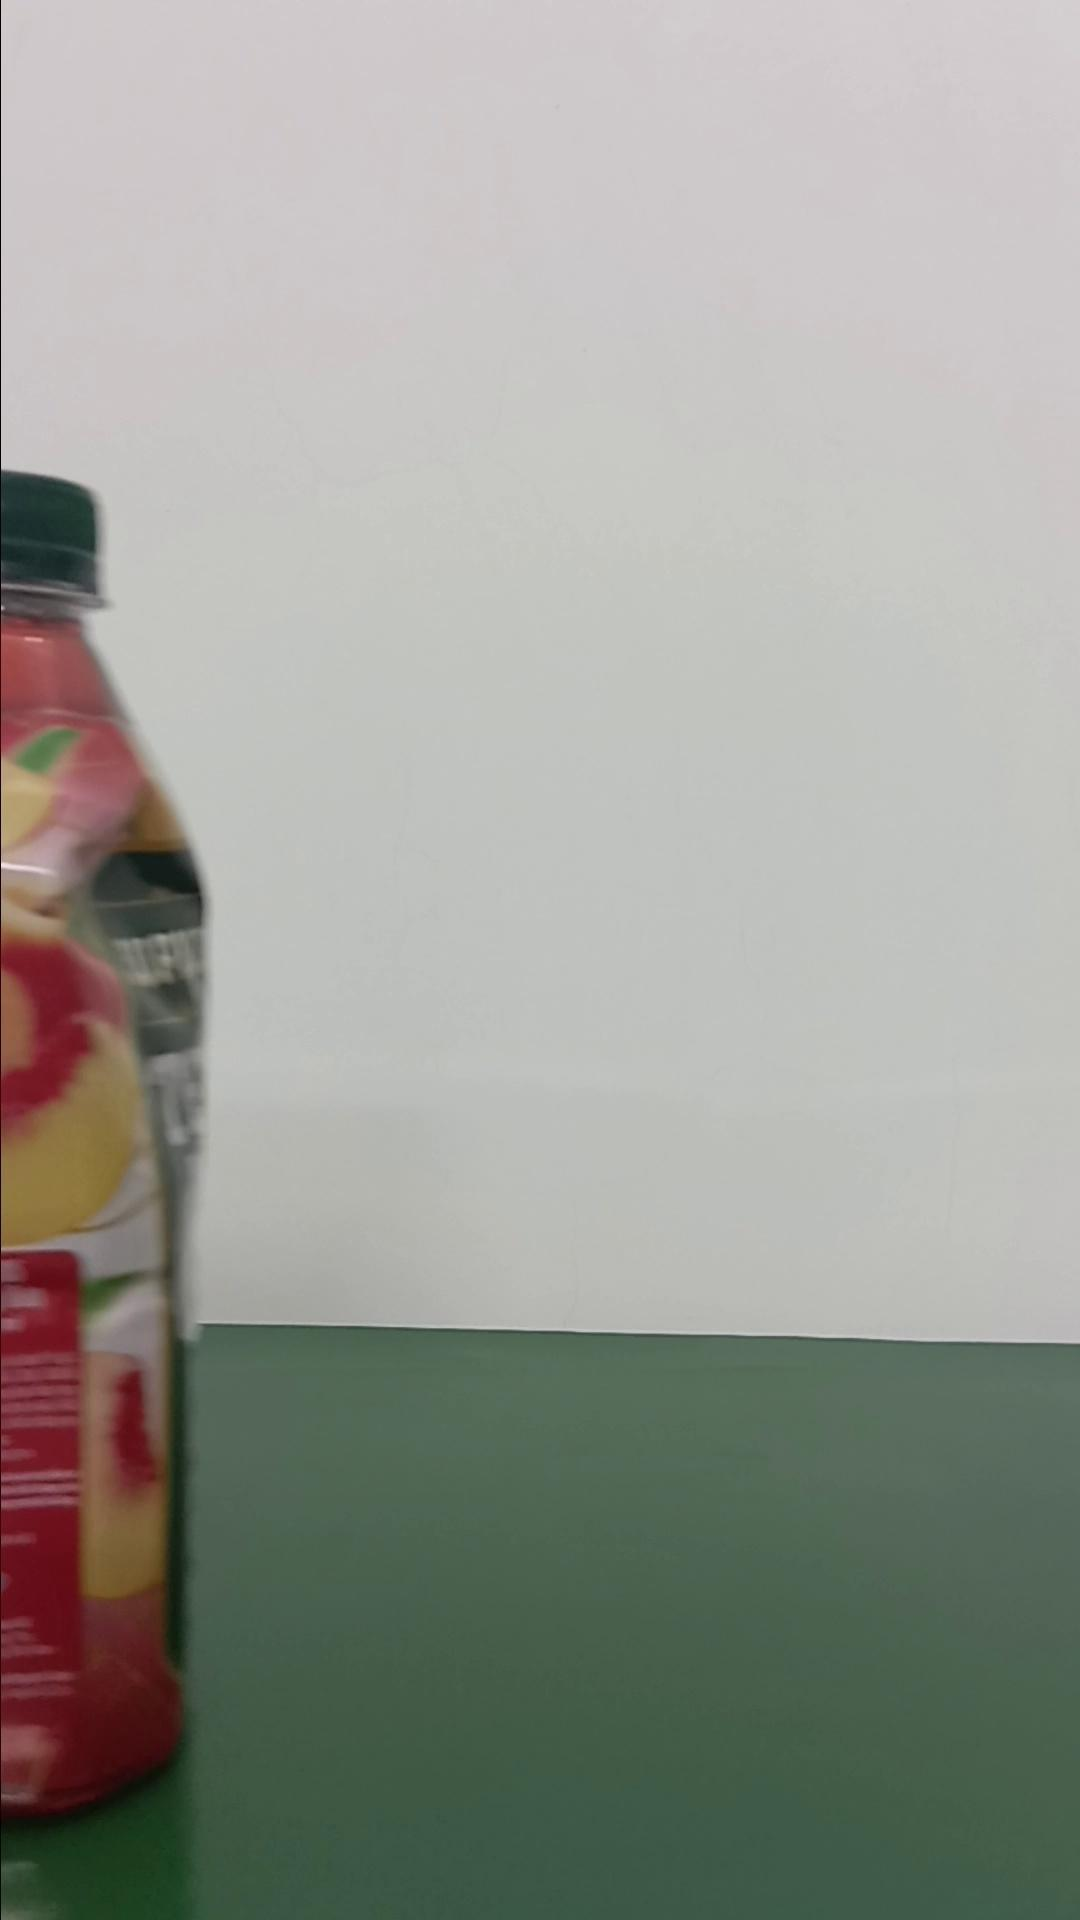loi meo sp: (1, 465, 211, 1817)
